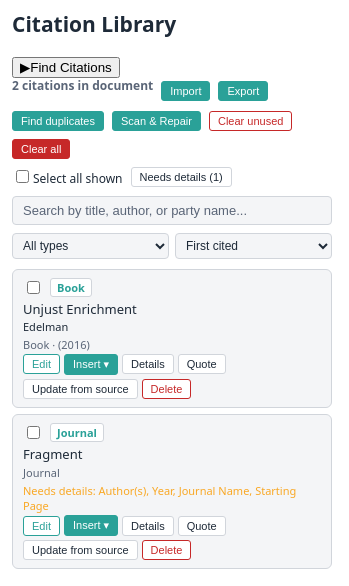
Test: CitationLibrary interchange surface › Needs details filter shows only imported citations missing fields, with labels
This screenshot has width=349, height=586.
Expected: the text "Needs details: Author(s), Year, Journal Name, Starting Page" is shown, [23,483,321,513]
Step 1. Click the button "Needs details (1)" → (181, 177), box [130,167,232,187]
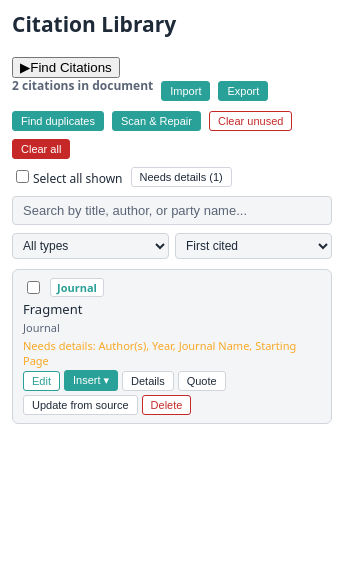
Expected: the text "Fragment" is shown, [23,300,82,318]
Expected: the text "Unjust Enrichment" is gone
